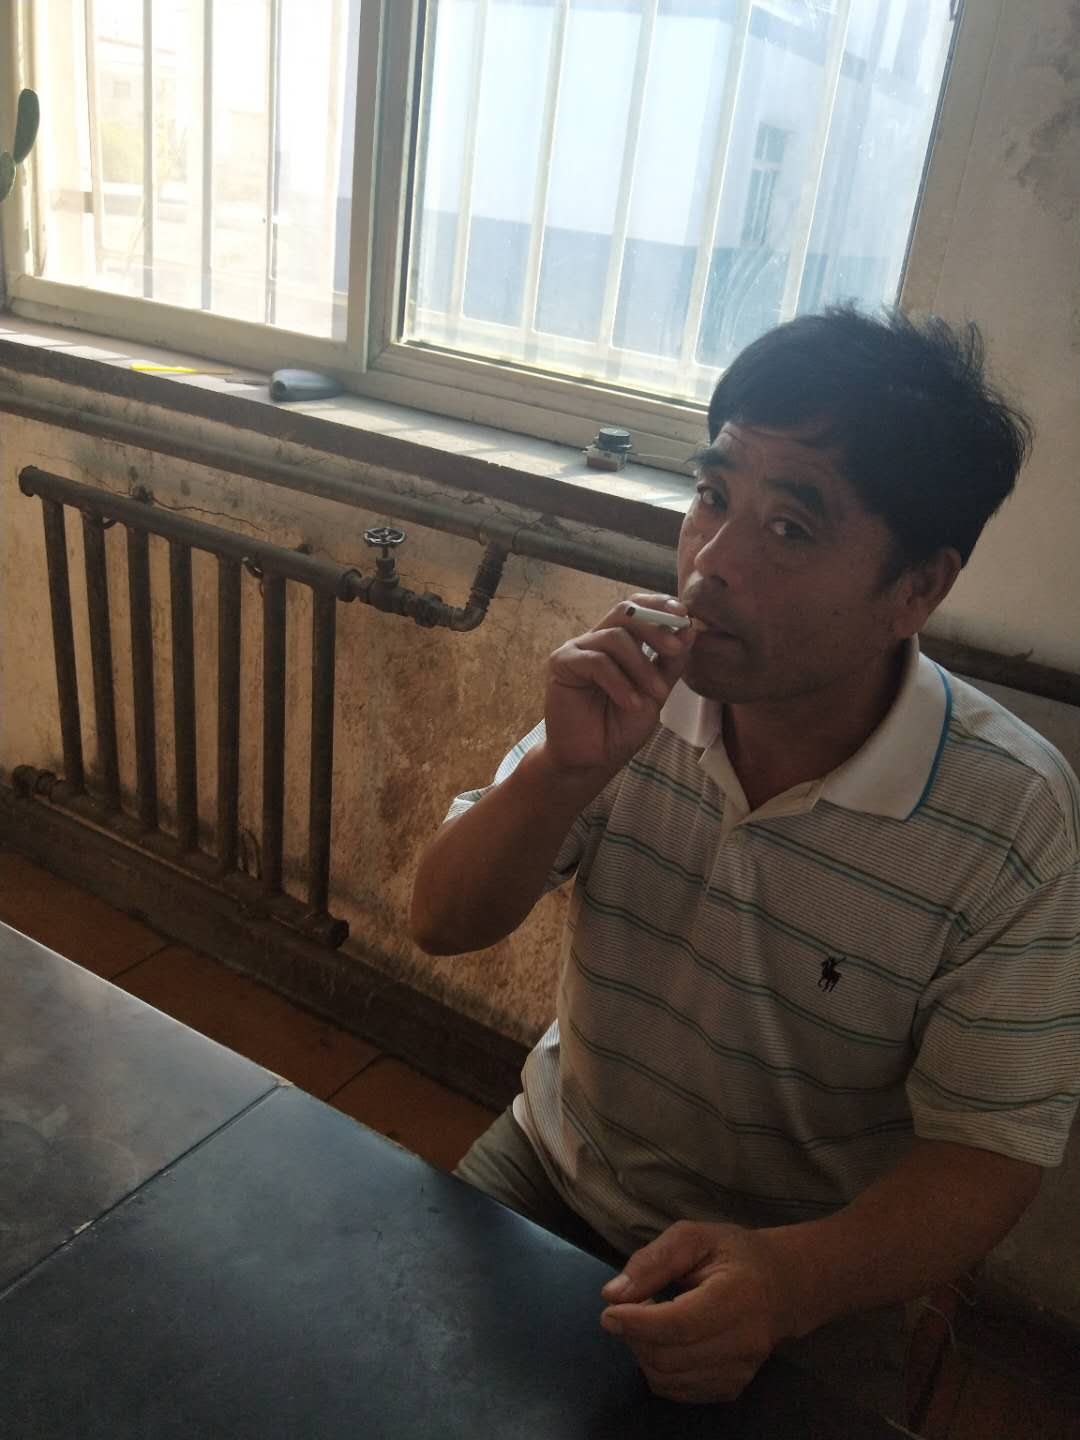smoke: (617, 603, 706, 636)
